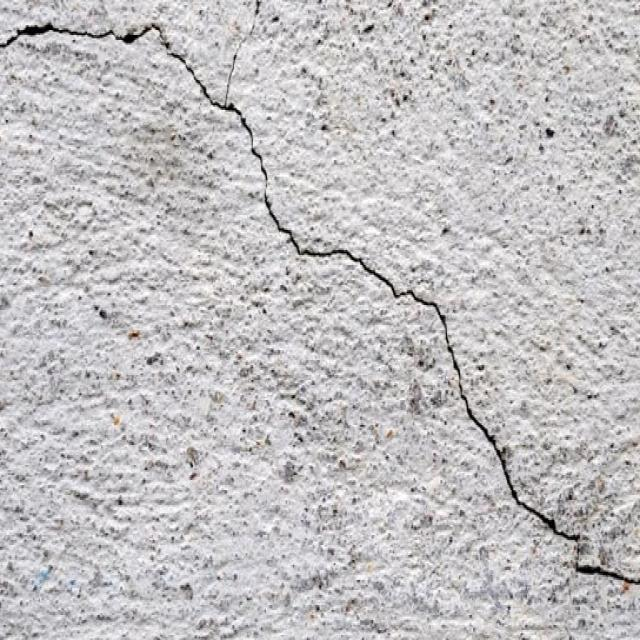crack: (240, 117, 453, 347), (448, 347, 639, 587), (1, 0, 267, 117)
